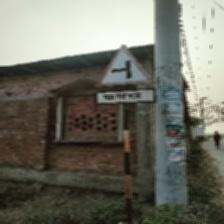Side-road-left: (97, 46, 156, 106)
